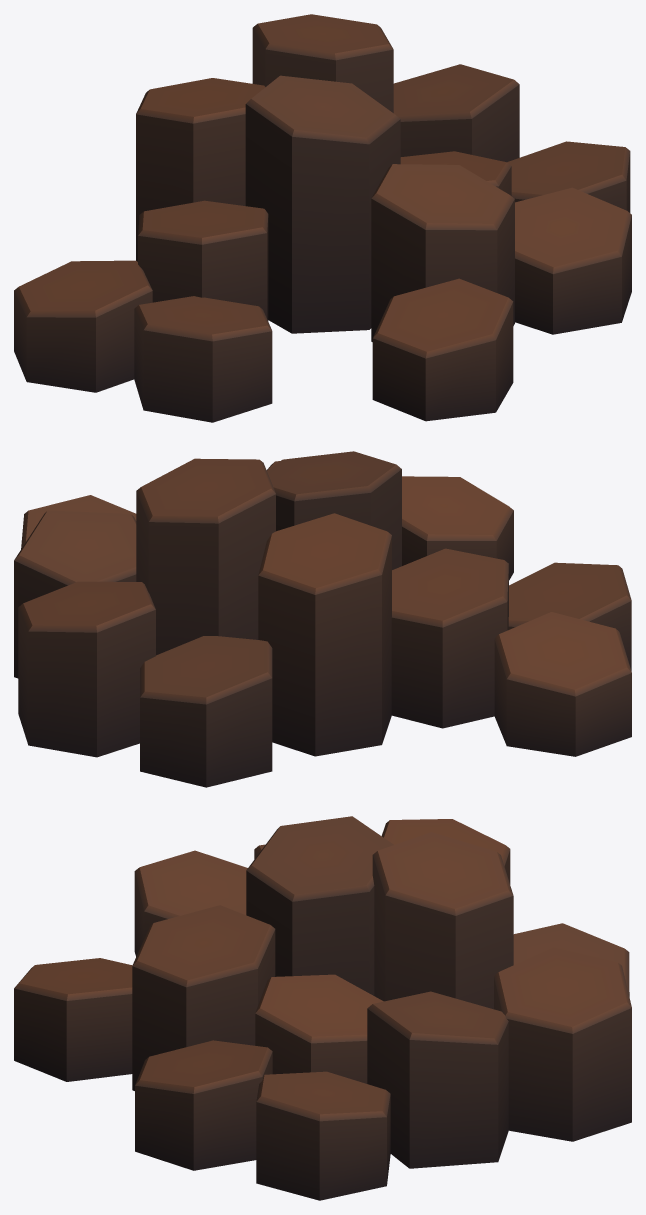
Rendered from columnar.lod0.glb.
3 renders of one model, top to bottom at view 1: azimuth 30°, elevation 25°; view 2: azimuth 150°, elevation 25°; view 3: azimuth 270°, elevation 25°, orthographic.
Parts seen in each view (by area): view 1: columnar_s1_lod0; view 2: columnar_s1_lod0; view 3: columnar_s1_lod0.
Part boxes in pixels (x1,y1,x2,y2): columnar_s1_lod0: (14, 14, 631, 422); columnar_s1_lod0: (14, 451, 631, 787); columnar_s1_lod0: (14, 816, 631, 1200).
Bounding box in the file's own units: 2.68 × 0.9292 × 2.36.
